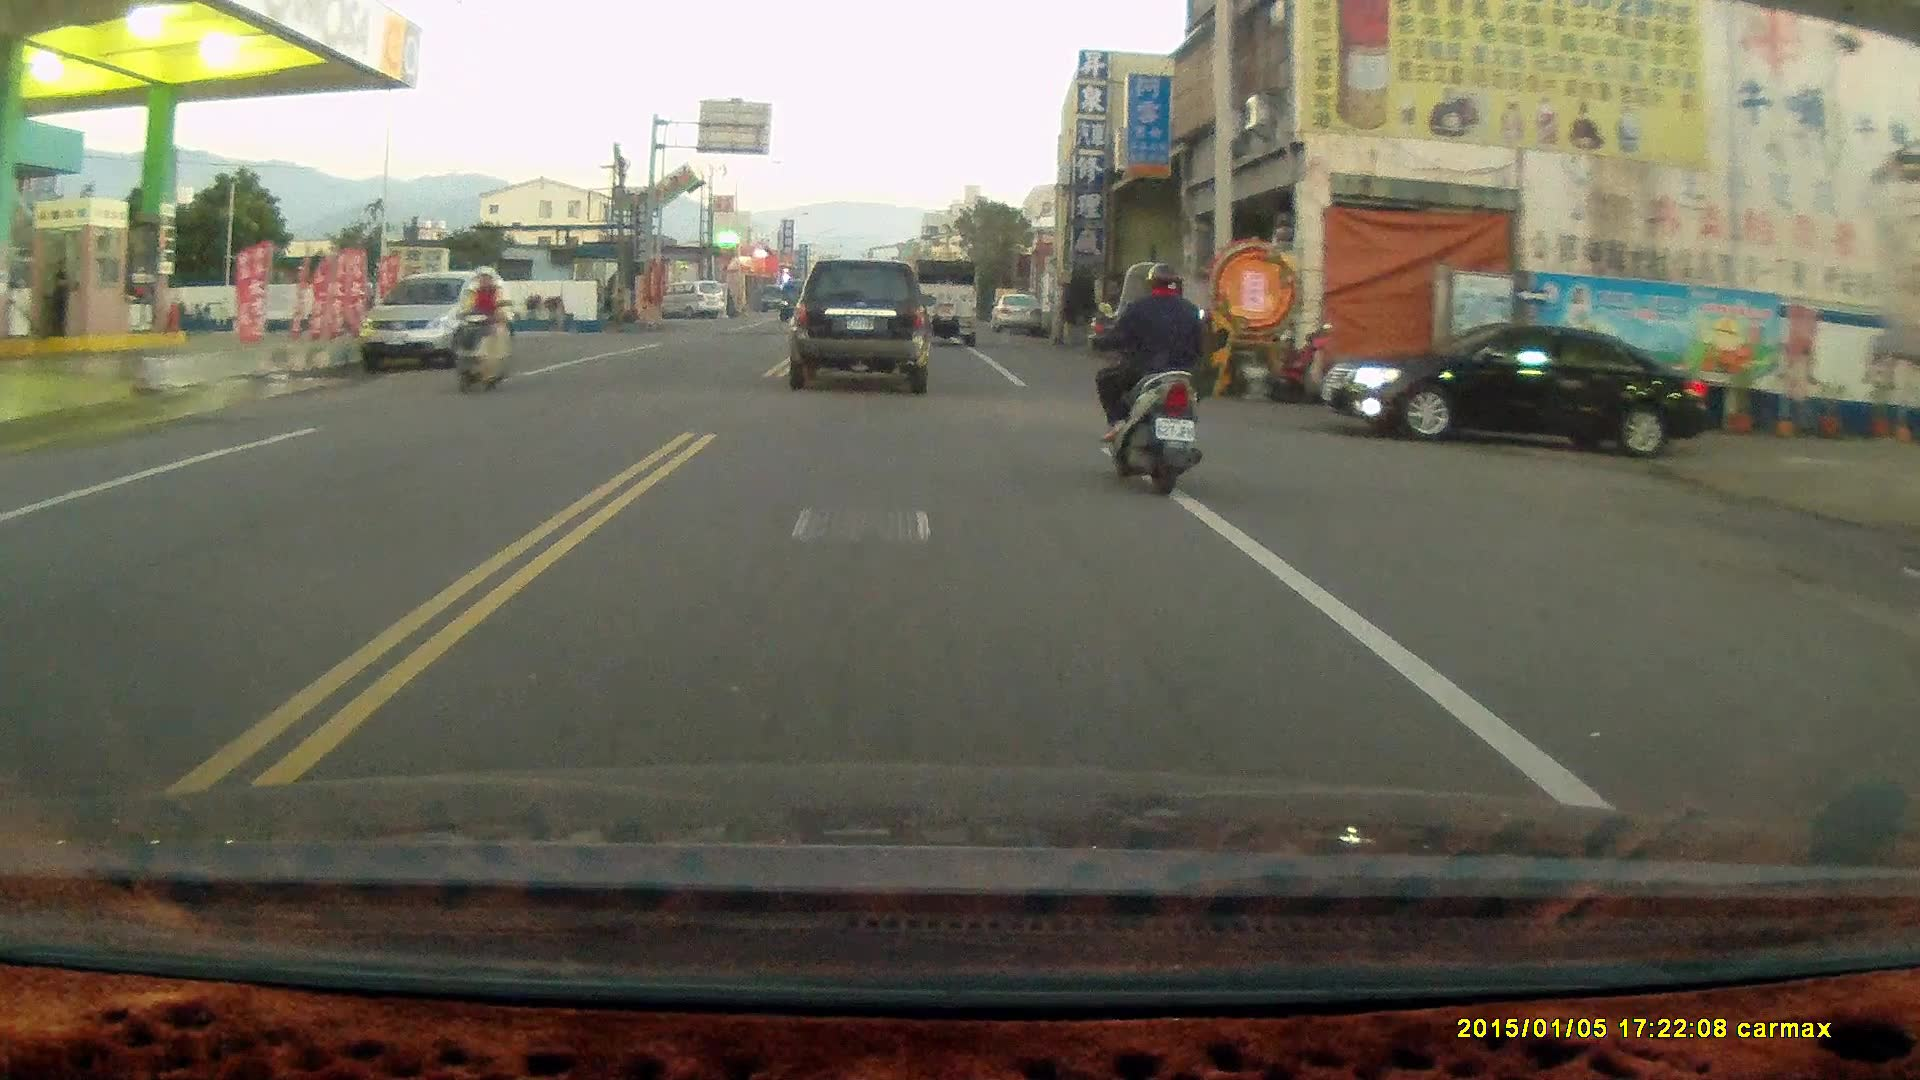rider: (1092, 259, 1203, 497), (447, 265, 508, 392)
vehicle: (1325, 325, 1721, 461), (790, 254, 938, 392), (355, 270, 514, 376), (896, 255, 980, 346), (989, 292, 1043, 332)
